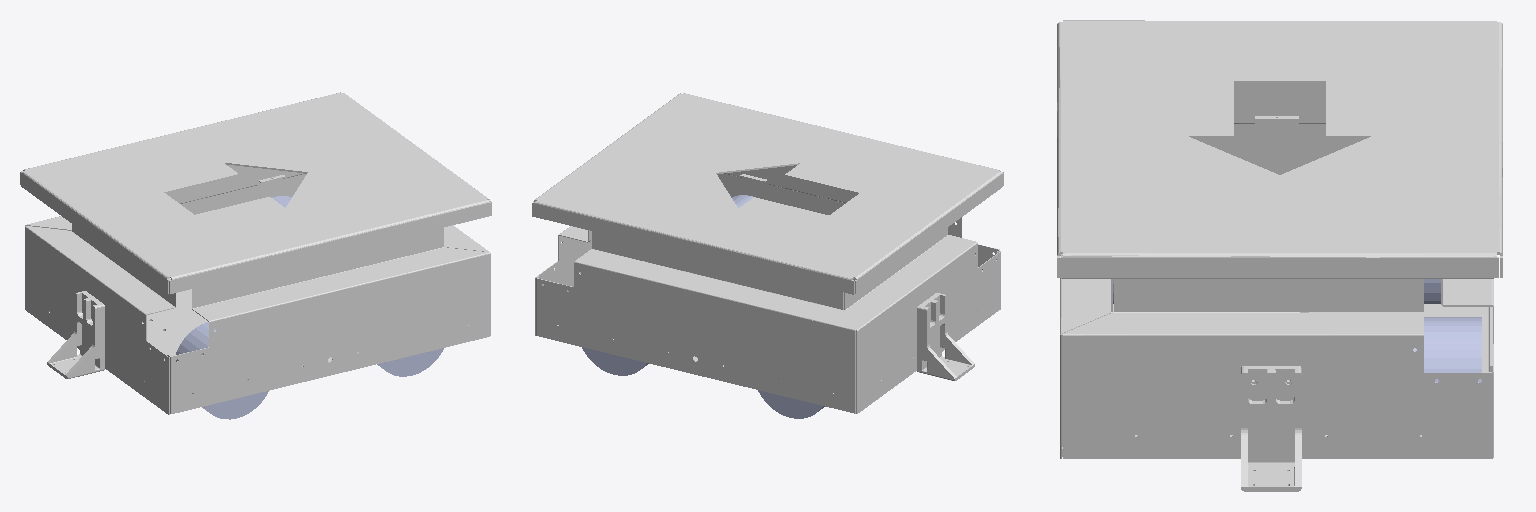
The robot description file, URDF, robot "faraday_description":
<robot
  name="faraday_description">
  <link
    name="base_link">
    <inertial>
      <origin
        xyz="0.0065302 -0.0023716 0.18684"
        rpy="0 0 0" />
      <mass
        value="80" />
      <inertia
        ixx="0.070111"
        ixy="0.0037189"
        ixz="0.0031173"
        iyy="0.11789"
        iyz="-0.00044675"
        izz="0.12485" />
    </inertial>
    <visual>
      <origin
        xyz="0 0 0"
        rpy="0 0 0" />
      <geometry>
        <mesh
          filename="package://faraday_description/meshes/base_link.STL" />
      </geometry>
      <material
        name="">
        <color
          rgba="0.9 0.9 0.9 1" />
      </material>
    </visual>
    <collision>
      <origin
        xyz="0 0 0"
        rpy="0 0 0" />
      <geometry>
        <mesh
          filename="package://faraday_description/meshes/base_link.STL" />
      </geometry>
    </collision>
  </link>
  <link
    name="front_lidar">
    <inertial>
      <origin
        xyz="-0.00064881 3.9624E-06 -0.020287"
        rpy="0 0 0" />
      <mass
        value="0.36783" />
      <inertia
        ixx="0.00010865"
        ixy="3.8659E-08"
        ixz="-1.6811E-07"
        iyy="0.00011263"
        iyz="2.7923E-08"
        izz="3.9807E-06" />
    </inertial>
    <visual>
      <origin
        xyz="0 0 0"
        rpy="0 0 0" />
      <geometry>
        <mesh
          filename="package://faraday_description/meshes/front_lidar.STL" />
      </geometry>
      <material
        name="">
        <color
          rgba="0.9 0.6 0.1 1" />
      </material>
    </visual>
    <collision>
      <origin
        xyz="0 0 0"
        rpy="0 0 0" />
      <geometry>
        <mesh
          filename="package://faraday_description/meshes/front_lidar.STL" />
      </geometry>
    </collision>
  </link>
  <joint
    name="base_front_lidar"
    type="fixed">
    <origin
      xyz="0.37 -0.01 0.096"
      rpy="0 0 0" />
    <parent
      link="base_link" />
    <child
      link="front_lidar" />
    <axis
      xyz="0 0 0" />
  </joint>
  <link
    name="back_lidar">
    <inertial>
      <origin
        xyz="-0.00064881 3.9624E-06 -0.020287"
        rpy="0 0 0" />
      <mass
        value="0.36783" />
      <inertia
        ixx="0.00010865"
        ixy="3.8659E-08"
        ixz="-1.6811E-07"
        iyy="0.00011263"
        iyz="2.7923E-08"
        izz="3.9807E-06" />
    </inertial>
    <visual>
      <origin
        xyz="0 0 0"
        rpy="0 0 0" />
      <geometry>
        <mesh
          filename="package://faraday_description/meshes/back_lidar.STL" />
      </geometry>
      <material
        name="">
        <color
          rgba="0.9 0.6 0.1 1" />
      </material>
    </visual>
    <collision>
      <origin
        xyz="0 0 0"
        rpy="0 0 0" />
      <geometry>
        <mesh
          filename="package://faraday_description/meshes/back_lidar.STL" />
      </geometry>
    </collision>
  </link>
  <joint
    name="base_back_lidar"
    type="fixed">
    <origin
      xyz="-0.373 0.003 0.096"
      rpy="-1.5558E-16 4.9792E-17 3.1416" />
    <parent
      link="base_link" />
    <child
      link="back_lidar" />
    <axis
      xyz="0 0 0" />
  </joint>
  <link
    name="front_left_wheel">
    <inertial>
      <origin
        xyz="-6.9389E-18 0.045 0"
        rpy="0 0 0" />
      <mass
        value="1.5904" />
      <inertia
        ixx="0"
        ixy="0"
        ixz="0"
        iyy="0"
        iyz="0"
        izz="0" />
    </inertial>
    <visual>
      <origin
        xyz="0 0 0"
        rpy="0 0 0" />
      <geometry>
        <mesh
          filename="package://faraday_description/meshes/front_left_wheel.STL" />
      </geometry>
      <material
        name="">
        <color
          rgba="0.79216 0.81961 0.93333 1" />
      </material>
    </visual>
    <collision>
      <origin
        xyz="0 0 0"
        rpy="0 0 0" />
      <geometry>
        <mesh
          filename="package://faraday_description/meshes/front_left_wheel.STL" />
      </geometry>
    </collision>
  </link>
  <joint
    name="base_front_left_wheel"
    type="continuous">
    <origin
      xyz="0.1695 0.1435 0.075"
      rpy="0 0 0" />
    <parent
      link="base_link" />
    <child
      link="front_left_wheel" />
    <axis
      xyz="0 1 0" />
    <limit
      effort="30"
      velocity="7" />
    <dynamics
      damping="0.7"
      friction="9.81" />
  </joint>
  <link
    name="front_right_wheel">
    <inertial>
      <origin
        xyz="0 -0.0449999999999999 0"
        rpy="0 0 0" />
      <mass
        value="1.59043128087983" />
      <inertia
        ixx="0"
        ixy="0"
        ixz="0"
        iyy="0"
        iyz="0"
        izz="0" />
    </inertial>
    <visual>
      <origin
        xyz="0 0 0"
        rpy="0 0 0" />
      <geometry>
        <mesh
          filename="package://faraday_description/meshes/front_right_wheel.STL" />
      </geometry>
      <material
        name="">
        <color
          rgba="0.792156862745098 0.819607843137255 0.933333333333333 1" />
      </material>
    </visual>
    <collision>
      <origin
        xyz="0 0 0"
        rpy="0 0 0" />
      <geometry>
        <mesh
          filename="package://faraday_description/meshes/front_right_wheel.STL" />
      </geometry>
    </collision>
  </link>
  <joint
    name="base_front_right_wheel"
    type="continuous">
    <origin
      xyz="0.1695 -0.1505 0.075"
      rpy="0 0 0" />
    <parent
      link="base_link" />
    <child
      link="front_right_wheel" />
    <axis
      xyz="0 1 0" />
    <limit
      effort="30"
      velocity="7" />
    <dynamics
      damping="0.7"
      friction="9.81" />
  </joint>
  <link
    name="back_left_wheel">
    <inertial>
      <origin
        xyz="0 0.045 0"
        rpy="0 0 0" />
      <mass
        value="1.59043128087983" />
      <inertia
        ixx="0"
        ixy="0"
        ixz="0"
        iyy="0"
        iyz="0"
        izz="0" />
    </inertial>
    <visual>
      <origin
        xyz="0 0 0"
        rpy="0 0 0" />
      <geometry>
        <mesh
          filename="package://faraday_description/meshes/back_left_wheel.STL" />
      </geometry>
      <material
        name="">
        <color
          rgba="0.792156862745098 0.819607843137255 0.933333333333333 1" />
      </material>
    </visual>
    <collision>
      <origin
        xyz="0 0 0"
        rpy="0 0 0" />
      <geometry>
        <mesh
          filename="package://faraday_description/meshes/back_left_wheel.STL" />
      </geometry>
    </collision>
  </link>
  <joint
    name="base_back_left_wheel"
    type="continuous">
    <origin
      xyz="-0.1825 0.1435 0.075"
      rpy="0 0 0" />
    <parent
      link="base_link" />
    <child
      link="back_left_wheel" />
    <axis
      xyz="0 1 0" />
    <limit
      effort="30"
      velocity="7" />
    <dynamics
      damping="7"
      friction="9.81" />
  </joint>
  <link
    name="back_right_wheel">
    <inertial>
      <origin
        xyz="0 -0.045 0"
        rpy="0 0 0" />
      <mass
        value="1.59043128087983" />
      <inertia
        ixx="0"
        ixy="0"
        ixz="0"
        iyy="0"
        iyz="0"
        izz="0" />
    </inertial>
    <visual>
      <origin
        xyz="0 0 0"
        rpy="0 0 0" />
      <geometry>
        <mesh
          filename="package://faraday_description/meshes/back_right_wheel.STL" />
      </geometry>
      <material
        name="">
        <color
          rgba="0.792156862745098 0.819607843137255 0.933333333333333 1" />
      </material>
    </visual>
    <collision>
      <origin
        xyz="0 0 0"
        rpy="0 0 0" />
      <geometry>
        <mesh
          filename="package://faraday_description/meshes/back_right_wheel.STL" />
      </geometry>
    </collision>
  </link>
  <joint
    name="base_back_right_wheel"
    type="continuous">
    <origin
      xyz="-0.1805 -0.1505 0.075"
      rpy="0 0 0" />
    <parent
      link="base_link" />
    <child
      link="back_right_wheel" />
    <axis
      xyz="0 1 0" />
    <limit
      effort="30"
      velocity="7" />
    <dynamics
      damping="0.7"
      friction="9.81" />
  </joint>
</robot>

--- What the picture shows (computed from the rendered views, not written in the file) ---
The picture shows the robot from 3 angles, left to right: view 1: azimuth 30°, elevation 25°; view 2: azimuth 150°, elevation 25°; view 3: azimuth 270°, elevation 25°; orthographic projection.
Model faraday_description with 7 links and 6 joints (4 continuous, 2 fixed), rooted at base_link, posed all joints at 0.
Visible links, largest first — view 1: base_link, back_right_wheel, front_right_wheel; view 2: base_link, back_left_wheel, front_left_wheel; view 3: base_link, front_left_wheel.
Boxes of the visible links, box(x1,y1,x2,y2) form: base_link: box(20, 92, 491, 414); back_right_wheel: box(176, 322, 268, 419); front_right_wheel: box(377, 339, 443, 376); base_link: box(532, 93, 1003, 413); back_left_wheel: box(758, 378, 833, 418); front_left_wheel: box(582, 338, 648, 375); base_link: box(1057, 20, 1502, 491); front_left_wheel: box(1413, 317, 1481, 382).
Size in the robot's own frame: 0.793 by 0.516 by 0.3075 metres.
Meshes: 7 distinct files referenced, 5 mesh visuals loaded (5 binary STL); not drawn: 2 (reference not matched to a file when rendering).
